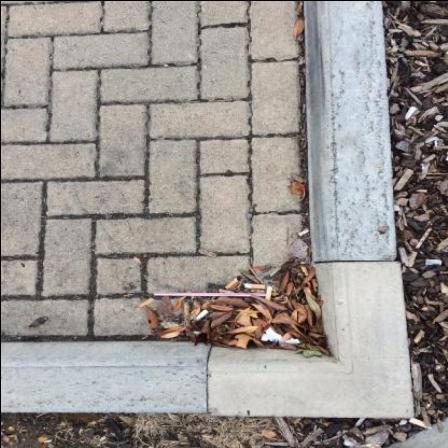Cigarette: (410, 418, 428, 429), (226, 278, 240, 290), (405, 107, 417, 121), (194, 310, 208, 321), (265, 287, 273, 302), (244, 284, 265, 289)
Paper: (261, 327, 299, 345)
Straw: (153, 292, 265, 296)
